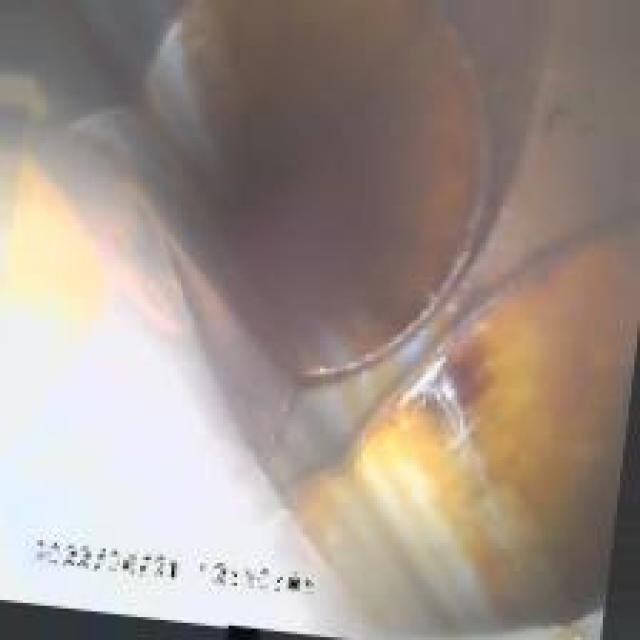joint: (154, 11, 583, 606)
